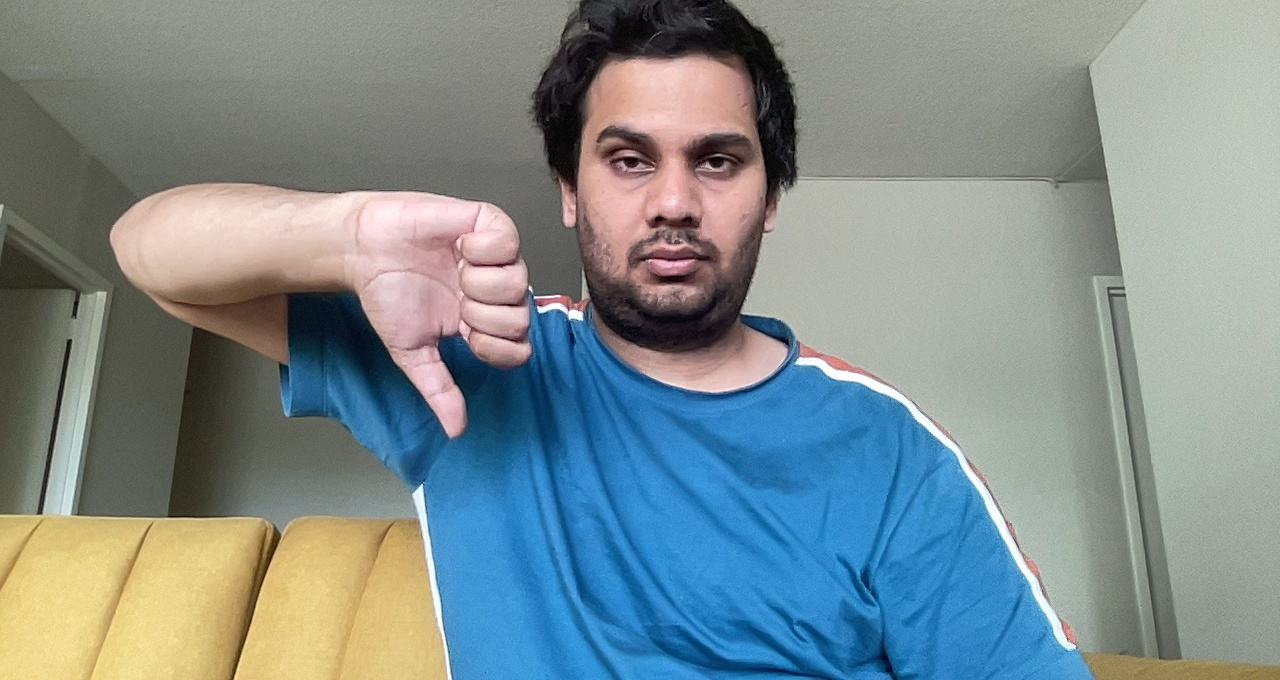thumbsdown: (335, 178, 542, 441)
